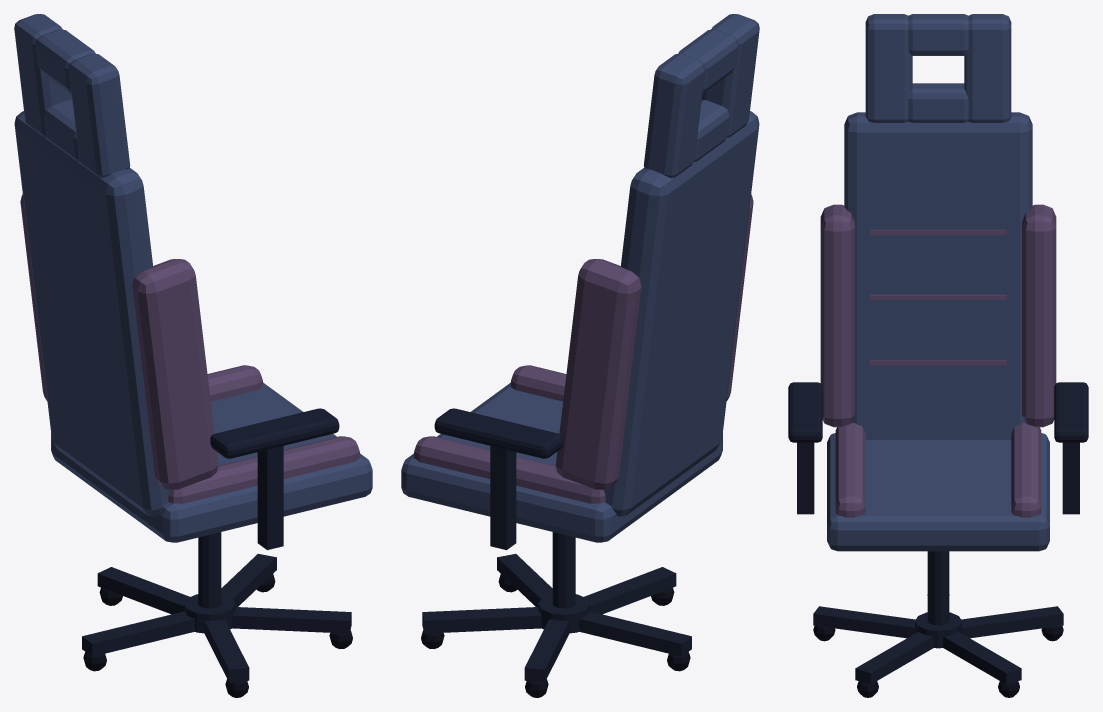
File: chair.glb
3 views of the same model, side by side, from view 1: azimuth 30°, elevation 25°; view 2: azimuth 150°, elevation 25°; view 3: azimuth 270°, elevation 25° (orthographic). The views are drawn at different scales.
Visible parts, largest first — view 1: chair; view 2: chair; view 3: chair.
Boxes of the visible parts, x1,y1,x2,y2 form: chair: (14,14,372,697); chair: (401,14,759,697); chair: (788,14,1088,697).
Bounding box in the file's own units: 0.6492 × 1.48 × 0.7.
Materials: 1 (1 with a texture image).
